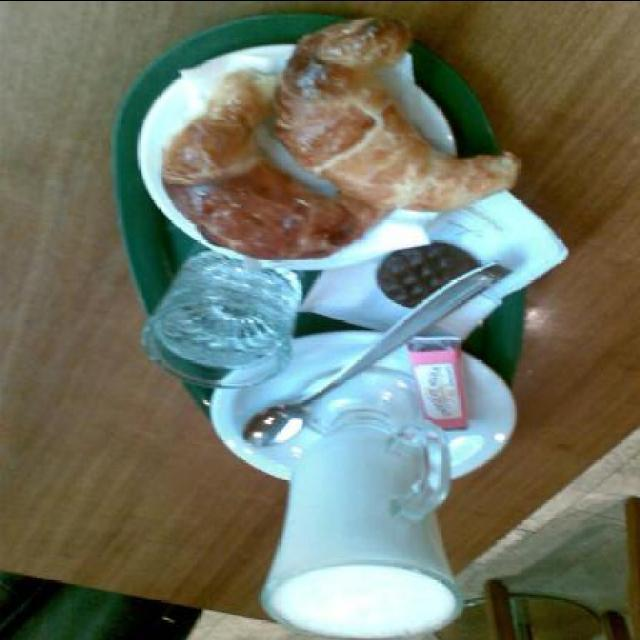Croissant: (272, 18, 518, 208)
